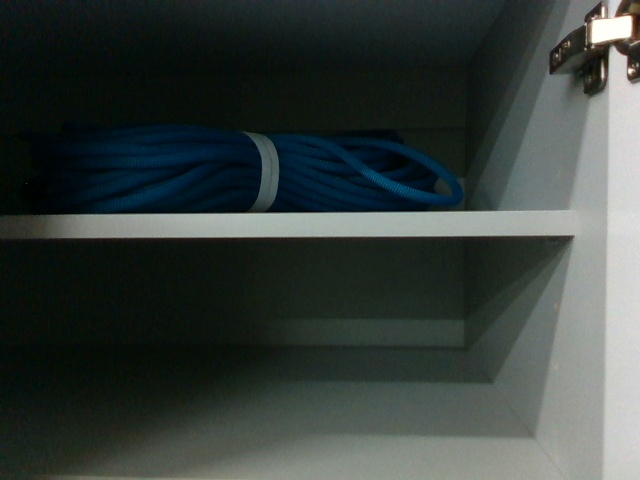rope: (71, 120, 468, 221)
